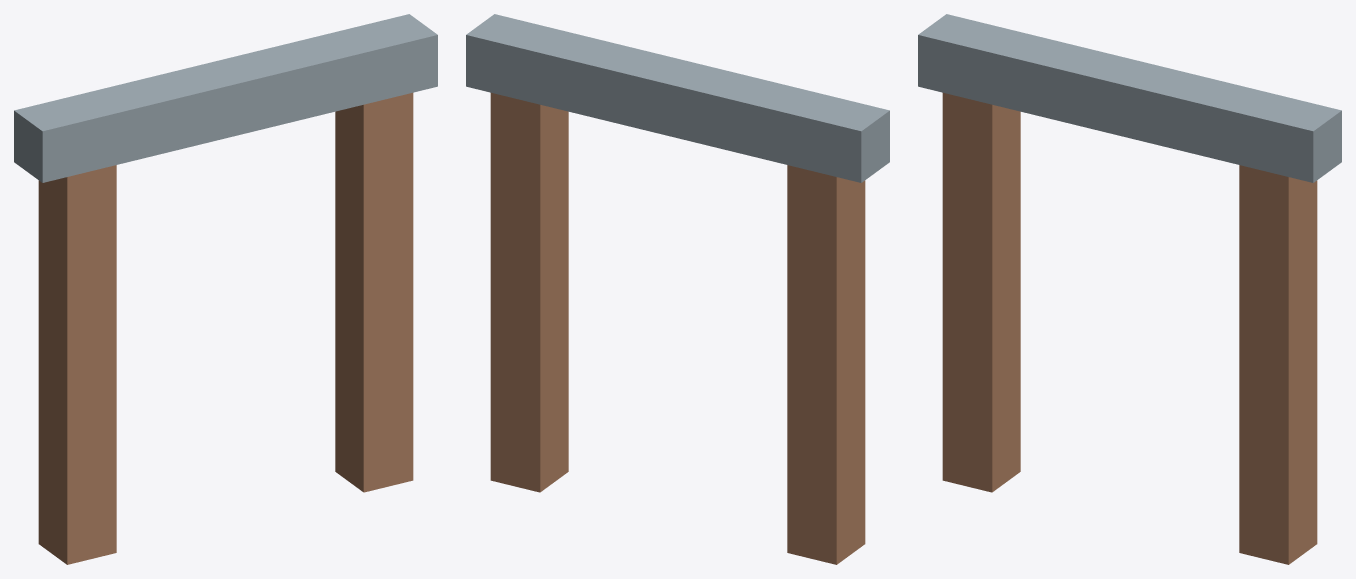
The model's file is rustgarden-gate.glb.
3 renders of one model, left to right at view 1: azimuth 30°, elevation 25°; view 2: azimuth 150°, elevation 25°; view 3: azimuth 330°, elevation 25°, orthographic.
Visible parts, largest first — view 1: GateLintel, GatePillar_R, GatePillar_L; view 2: GateLintel, GatePillar_R, GatePillar_L; view 3: GateLintel, GatePillar_L, GatePillar_R.
Boxes of the visible parts, x1,y1,x2,y2 form: GateLintel: [14, 14, 437, 182]; GatePillar_R: [335, 92, 413, 492]; GatePillar_L: [38, 165, 116, 564]; GateLintel: [466, 14, 889, 182]; GatePillar_R: [490, 92, 568, 492]; GatePillar_L: [787, 165, 865, 564]; GateLintel: [918, 14, 1341, 182]; GatePillar_L: [942, 92, 1020, 492]; GatePillar_R: [1239, 165, 1317, 564].
Bounding box in the file's own units: 3.2 × 3.4 × 0.4.
